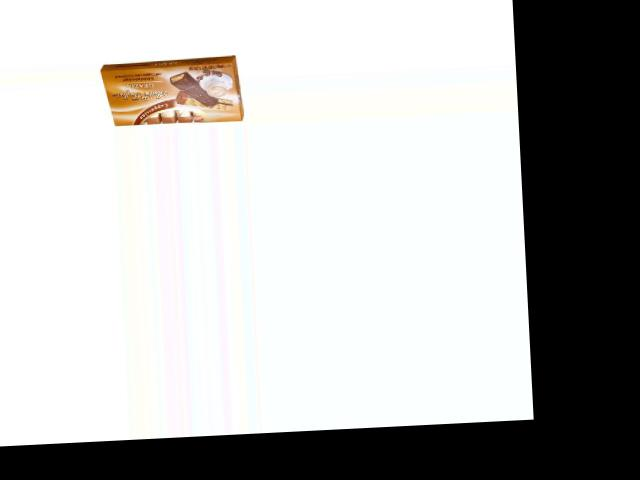chocolate: (97, 54, 244, 129)
